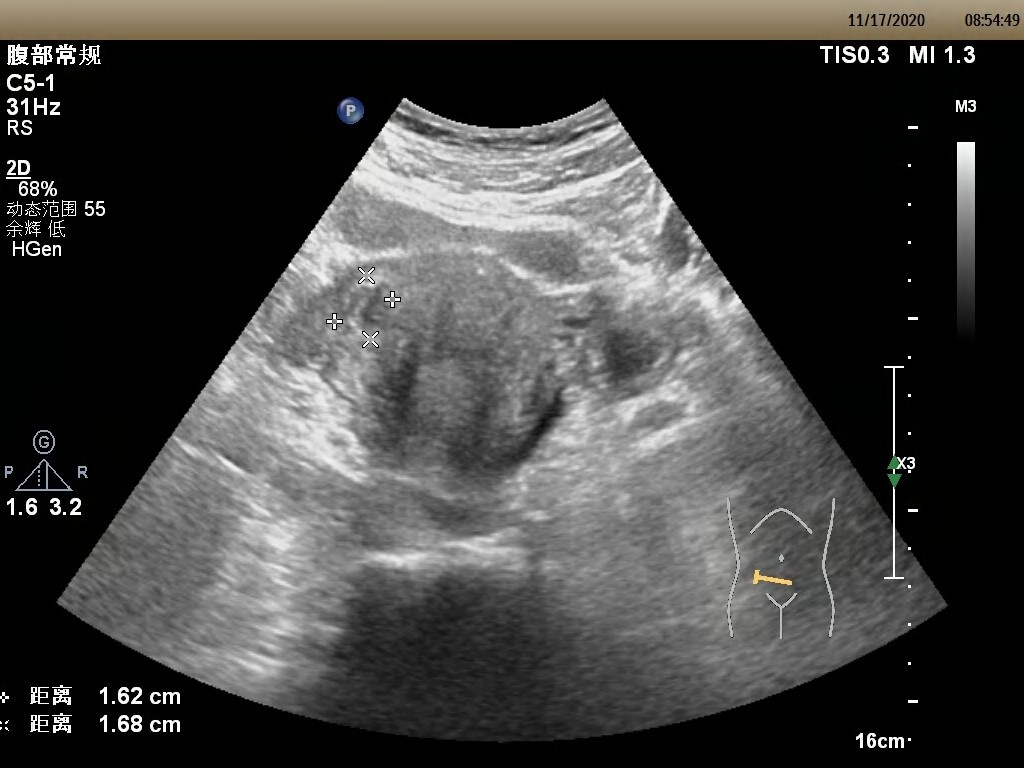肌瘤: (333, 273, 394, 343)
